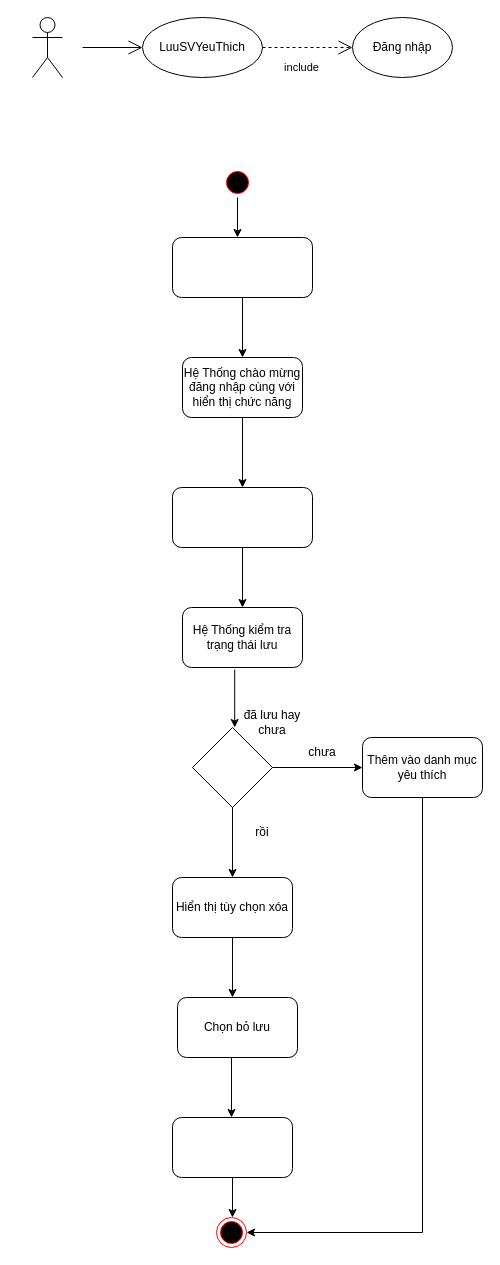
Image size: 500x1265. Some labels were removed from this diagram. The centre of each missing label's shape, as x and y in pixels:
Cập nhật biểu tượng: (232,1147)
NguoiDung: (47,47)
NguoiDung chọn chức năng Lưu SV yêu thích: (242,517)
NguoiDung chọn chức năng đăng nhập: (242,267)
